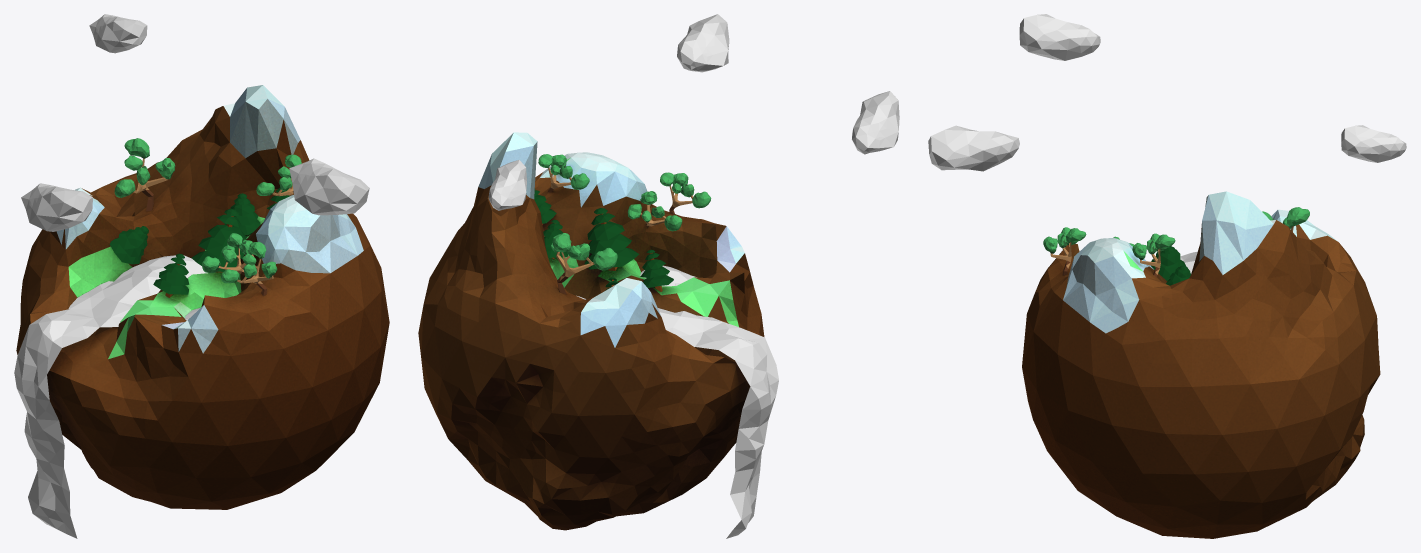
Rendered from lowpolyisland.fbx.
3 views of the same model, side by side, from view 1: azimuth 30°, elevation 25°; view 2: azimuth 150°, elevation 25°; view 3: azimuth 270°, elevation 25° (orthographic). The views are drawn at different scales.
Visible parts, largest first — view 1: Island, Water, Icosphere.001, Cube, Plane, Cube.001, Plane.002, Cube.003, Plane.001, Cube.002, Plane.003; view 2: Island, Water, Icosphere.001, Plane, Cube, Cube.001, Cube.002, Cube.003, Plane.001; view 3: Island, Icosphere.001, Cube.001, Cube.002, Plane.
Boxes of the visible parts, <box> form: Island: <box>16,85,389,509</box>; Water: <box>14,255,207,538</box>; Icosphere.001: <box>21,14,369,231</box>; Cube: <box>114,138,175,211</box>; Plane: <box>191,208,246,272</box>; Cube.001: <box>221,241,277,296</box>; Plane.002: <box>109,226,148,264</box>; Cube.003: <box>202,233,253,278</box>; Plane.001: <box>153,253,189,297</box>; Cube.002: <box>256,154,301,196</box>; Plane.003: <box>224,193,260,235</box>; Island: <box>418,132,764,530</box>; Water: <box>576,265,778,538</box>; Icosphere.001: <box>488,14,899,210</box>; Plane: <box>584,208,639,270</box>; Cube: <box>551,233,617,294</box>; Cube.001: <box>660,172,711,214</box>; Cube.002: <box>538,154,589,192</box>; Cube.003: <box>627,191,682,231</box>; Plane.001: <box>640,249,673,291</box>; Island: <box>1022,191,1380,538</box>; Icosphere.001: <box>928,14,1406,171</box>; Cube.001: <box>1043,227,1086,275</box>; Cube.002: <box>1132,233,1175,277</box>; Plane: <box>1151,246,1190,280</box>.
Bounding box in the file's own units: 38190 × 37891 × 40610.
